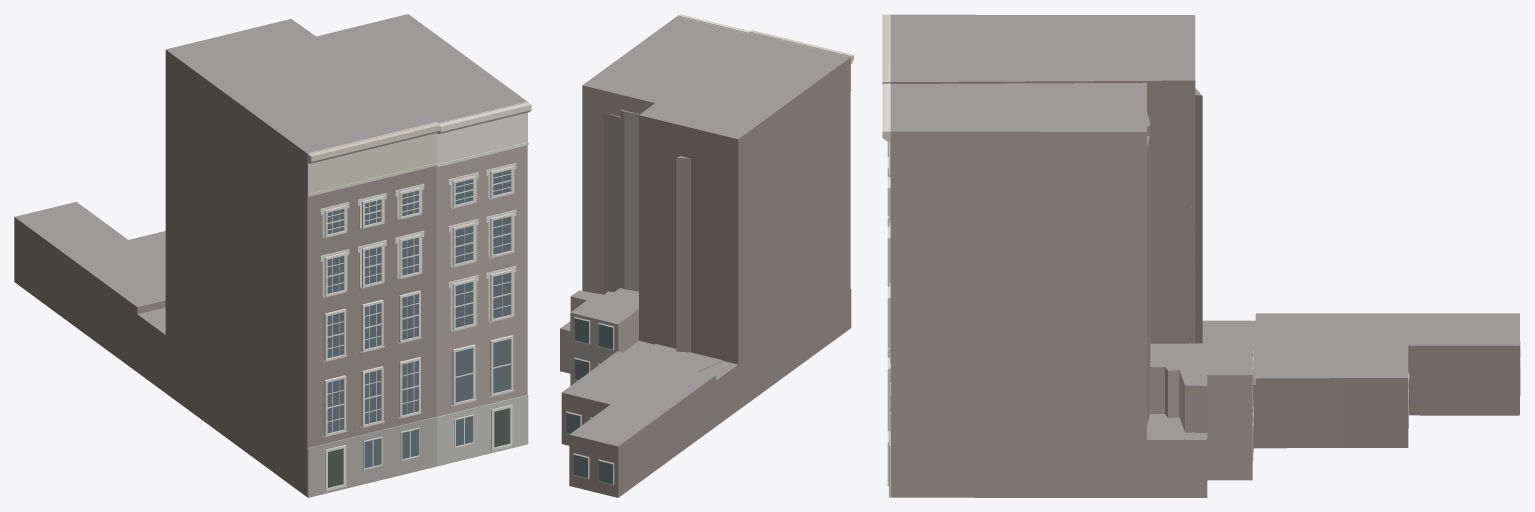
File: chunk-face-keizersgracht-596-648-r1.glb
3 views of the same model, side by side, from view 1: azimuth 30°, elevation 25°; view 2: azimuth 150°, elevation 25°; view 3: azimuth 270°, elevation 25° (orthographic). The views are drawn at different scales.
Visible parts, largest first — view 1: face-keizersgracht-596-648-r1; view 2: face-keizersgracht-596-648-r1; view 3: face-keizersgracht-596-648-r1.
Boxes of the visible parts, bbox=[...] form: face-keizersgracht-596-648-r1: bbox=[14, 14, 531, 497]; face-keizersgracht-596-648-r1: bbox=[560, 14, 853, 497]; face-keizersgracht-596-648-r1: bbox=[882, 14, 1520, 497].
Size of the model in its own units: 12.98 by 19.35 by 30.38.
